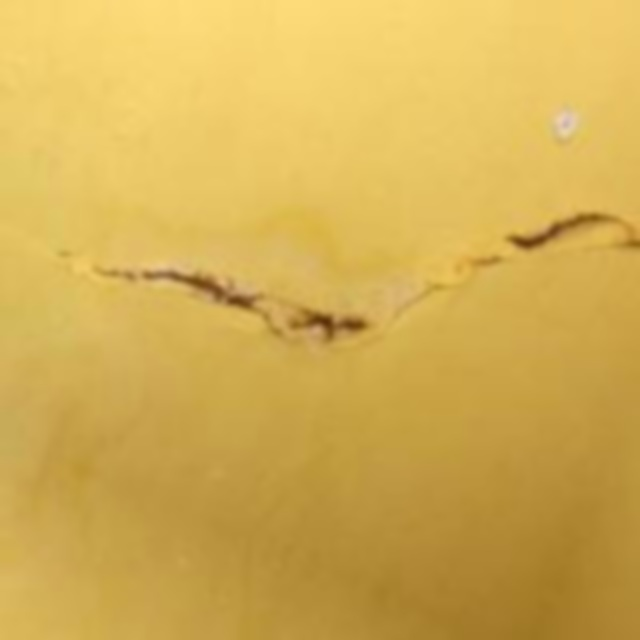SurfaceCrack: (100, 180, 640, 398)
